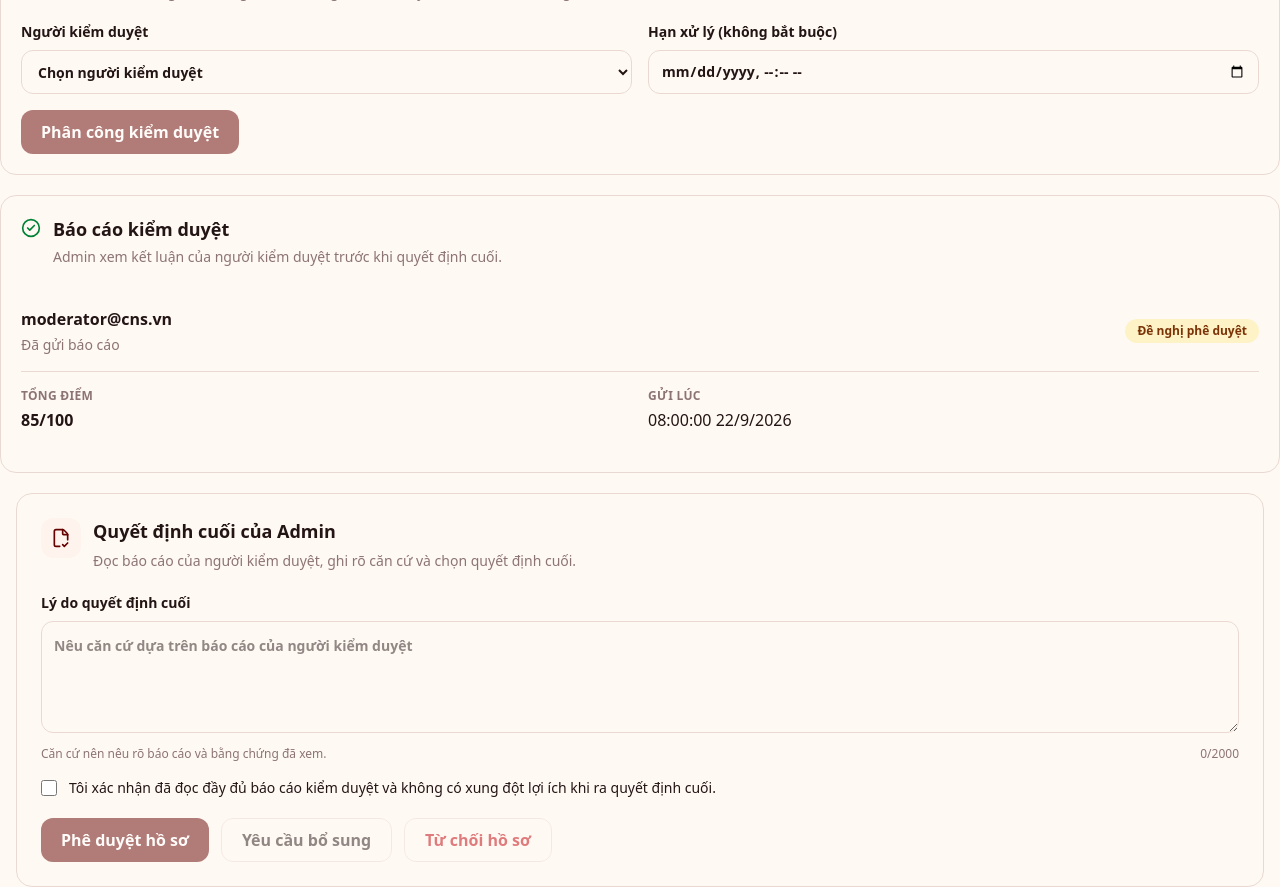
ReviewLifecyclePanel › keeps the approval result visible with a deliberate next action
The width and height of the screenshot is (1280, 887).
(page scrolled)
Type "Báo cáo đủ căn cứ." into the text box labelled "Lý do quyết định cuối".
click(640, 677); type("Báo cáo đủ căn cứ.")  # box [41,621,1239,733]
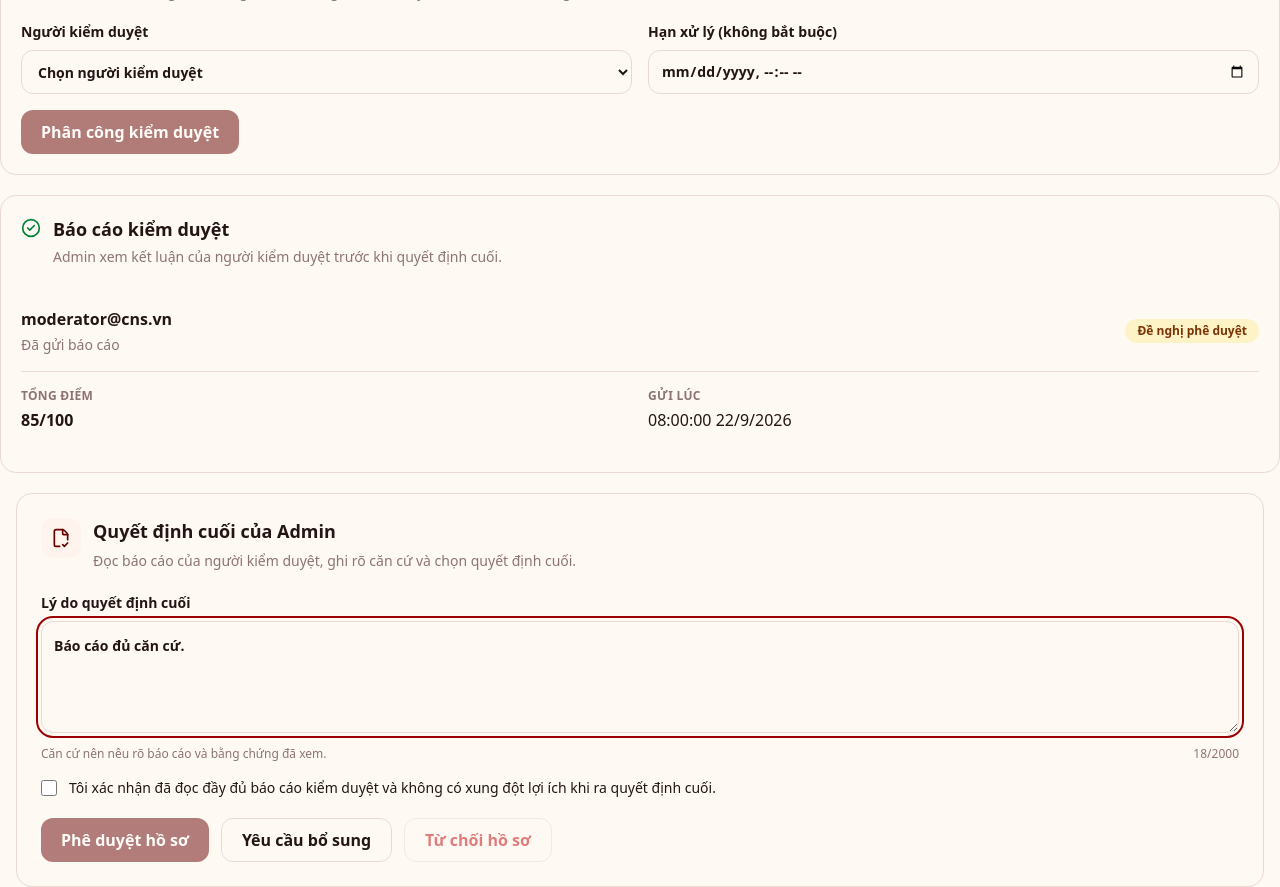
Click the checkbox.
click(49, 788)  # box [41,780,57,796]
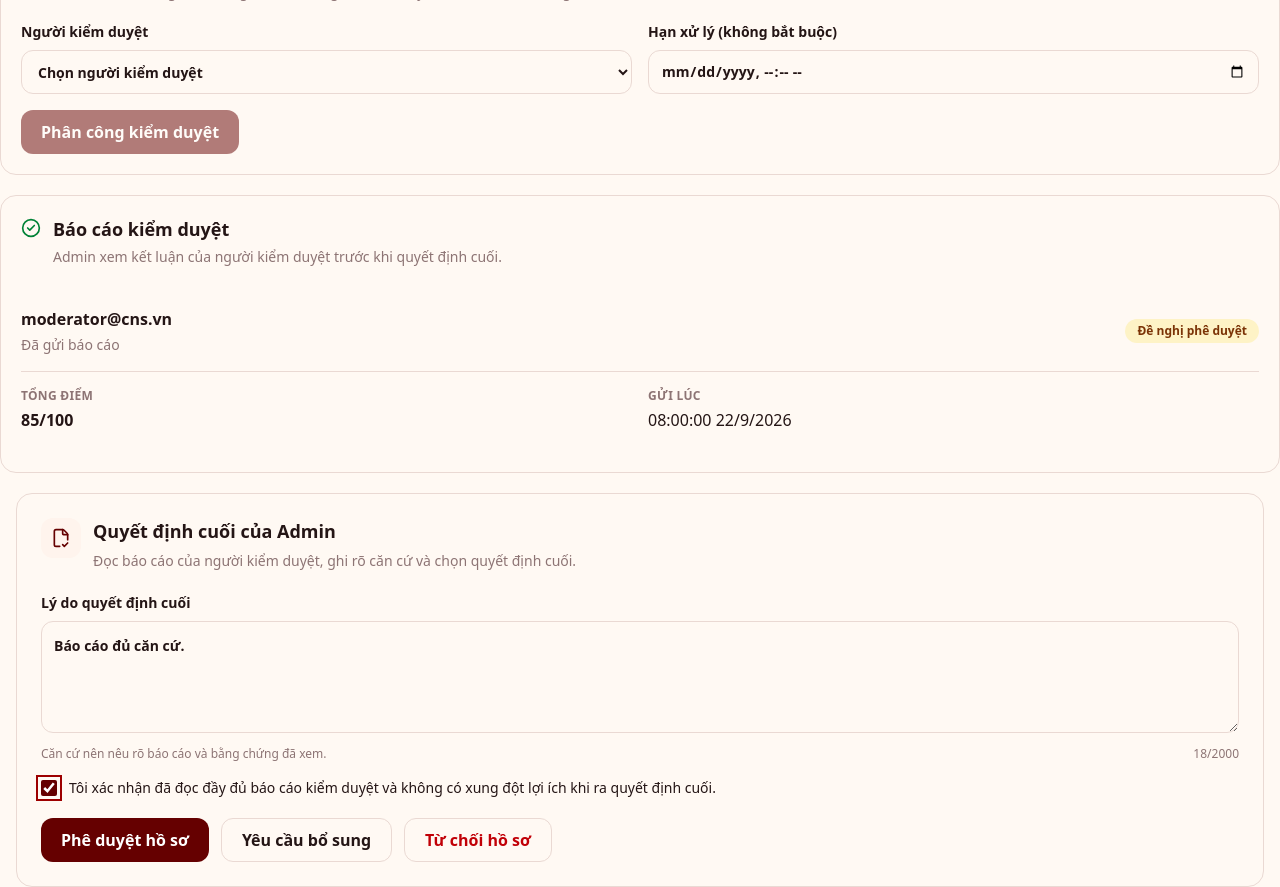
Click the button "Phê duyệt hồ sơ".
click(125, 840)  # box [41,818,209,862]
(page scrolled)
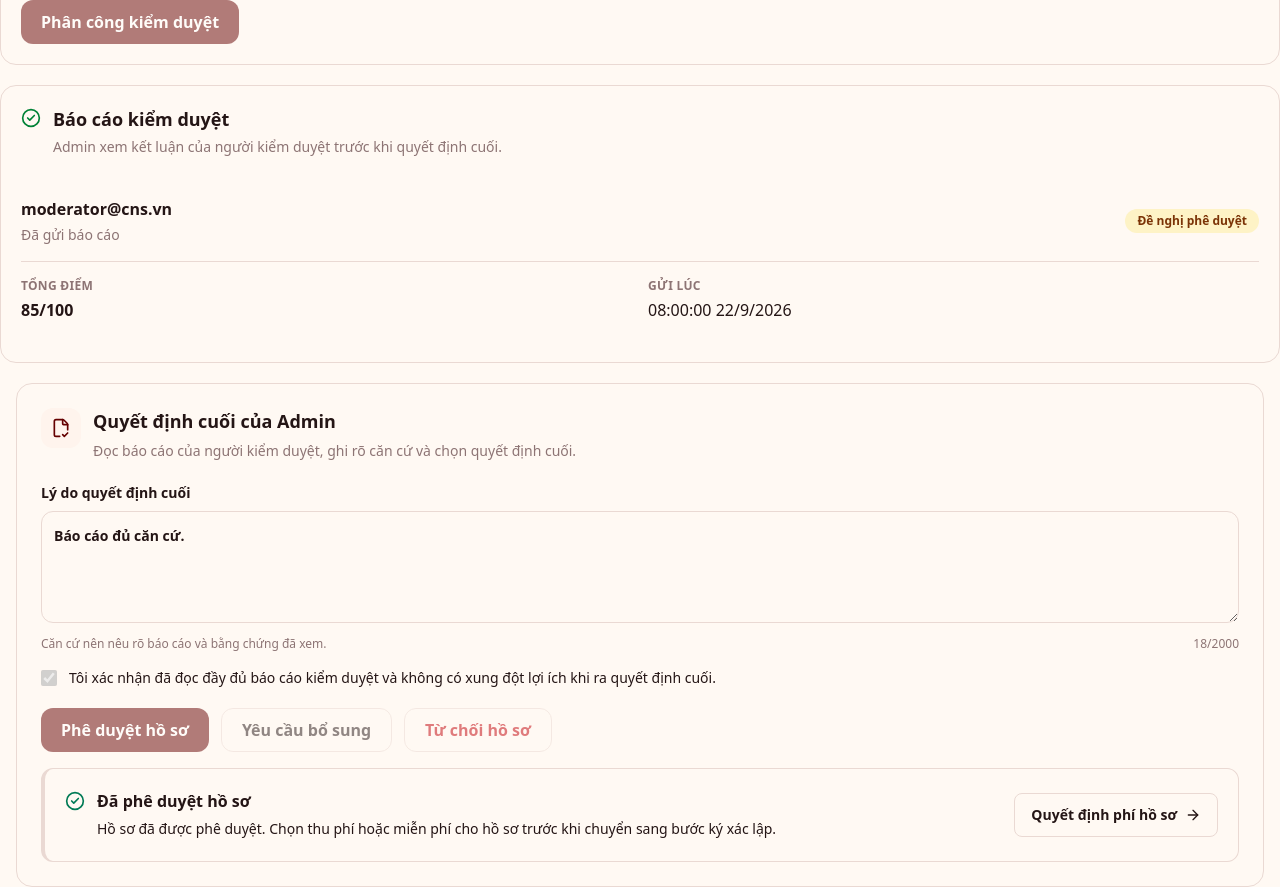
Expected: the heading "Đã phê duyệt hồ sơ" is shown, [97,790,251,812]
